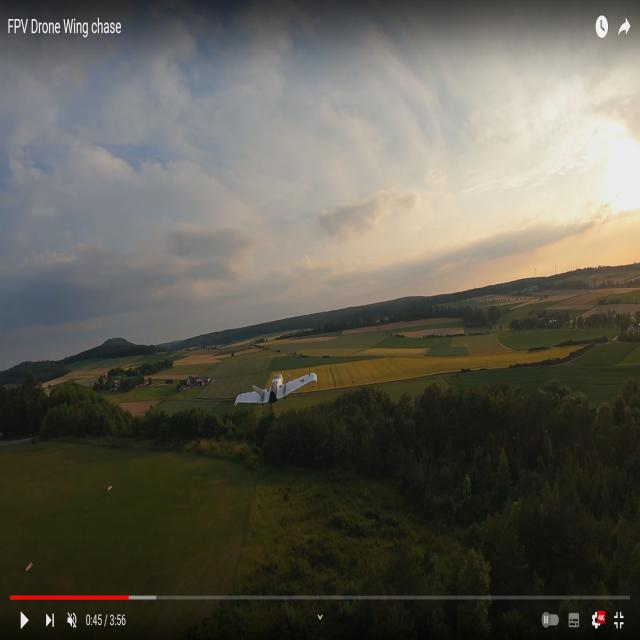iha: (271, 364, 284, 404)
